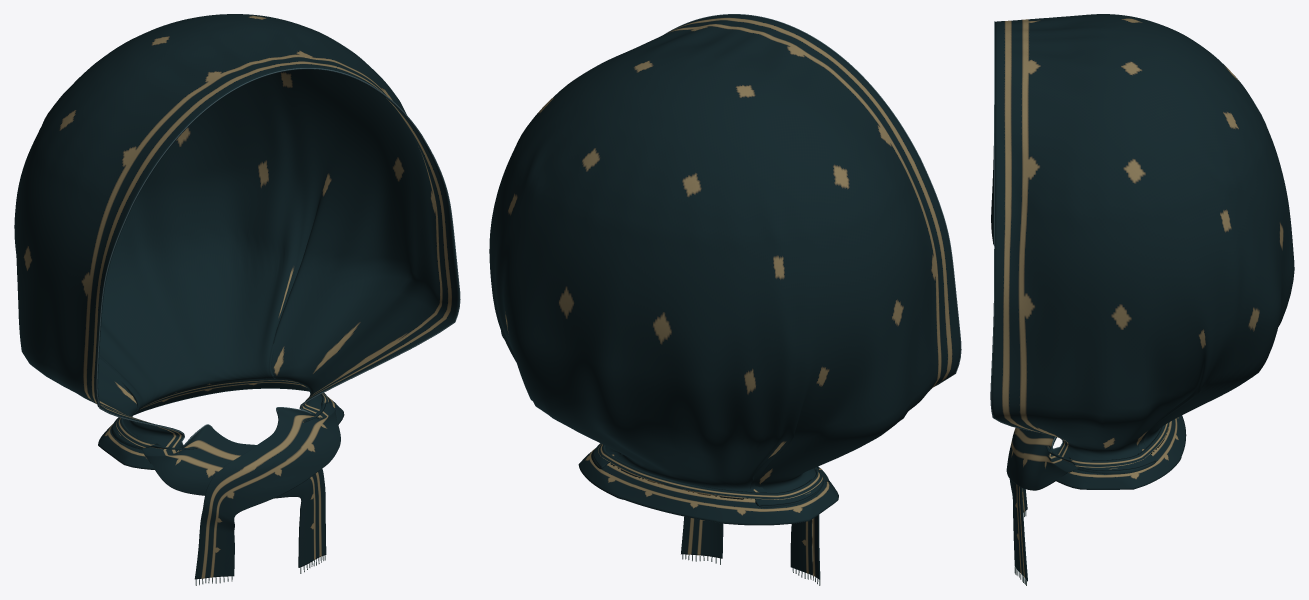
Rendered from Masculine-tank-pashmina238-headgear.glb.
3 renders of one model, left to right at view 1: azimuth 30°, elevation 25°; view 2: azimuth 150°, elevation 25°; view 3: azimuth 270°, elevation 25°, orthographic. The views are drawn at different scales.
Visible parts, largest first — view 1: 226 headgear / Headwear / continuous woven pashmina238, 226 headgear / Headwear / face edge238; view 2: 226 headgear / Headwear / continuous woven pashmina238, 226 headgear / Headwear / face edge238; view 3: 226 headgear / Headwear / continuous woven pashmina238, 226 headgear / Headwear / face edge238.
Boxes of the visible parts, left/top/right/bottom form: 226 headgear / Headwear / continuous woven pashmina238: left=14, top=14, right=459, bottom=579; 226 headgear / Headwear / face edge238: left=96, top=68, right=460, bottom=446; 226 headgear / Headwear / continuous woven pashmina238: left=489, top=14, right=960, bottom=579; 226 headgear / Headwear / face edge238: left=664, top=14, right=961, bottom=387; 226 headgear / Headwear / continuous woven pashmina238: left=991, top=14, right=1294, bottom=581; 226 headgear / Headwear / face edge238: left=990, top=21, right=1062, bottom=449.
Size of the model in its own units: 1.03 by 1.35 by 0.7127.
3 materials, 1 textured.
